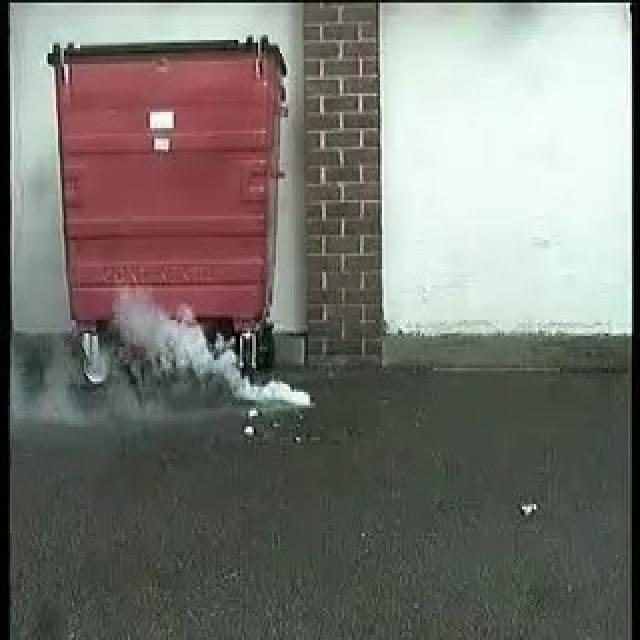smoke: (115, 288, 315, 411)
